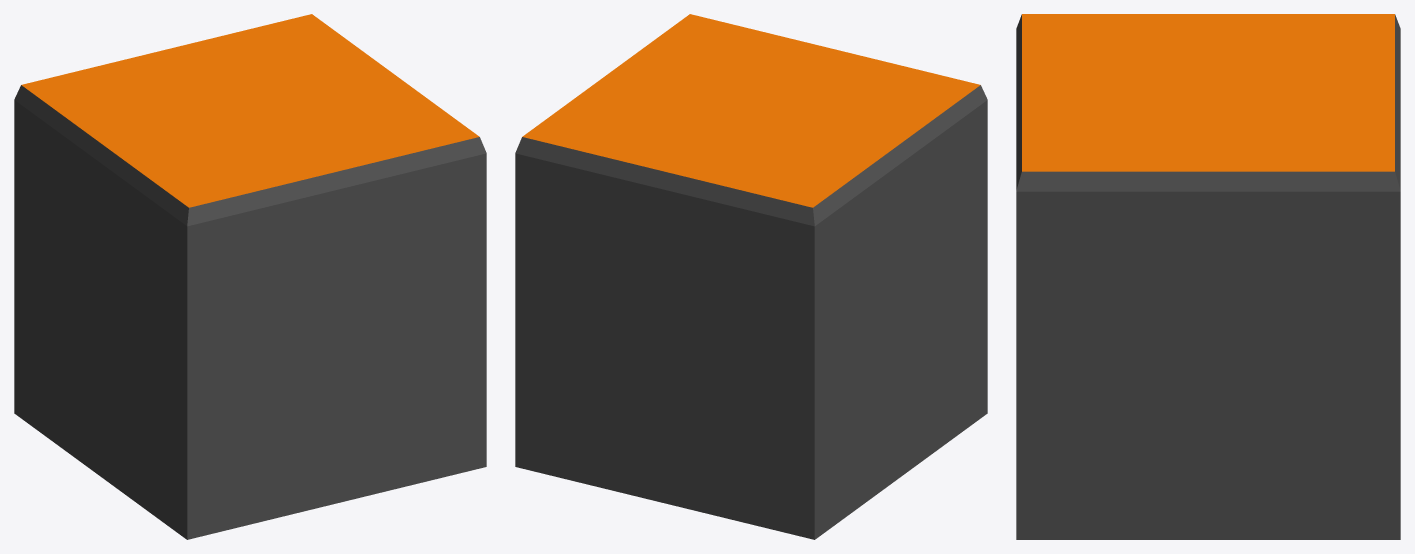
Rendered from orange_tile.glb.
The picture shows the model from 3 angles, left to right: view 1: azimuth 30°, elevation 25°; view 2: azimuth 150°, elevation 25°; view 3: azimuth 270°, elevation 25°; orthographic projection. The views are drawn at different scales.
Parts seen in each view (by area): view 1: OrangeTile; view 2: OrangeTile; view 3: OrangeTile.
Boxes of the visible parts, box(x1,y1,x2,y2) form: OrangeTile: box(14, 14, 486, 539); OrangeTile: box(515, 14, 987, 539); OrangeTile: box(1016, 14, 1400, 539).
Size of the model in its own units: 2 by 2.1 by 2.
